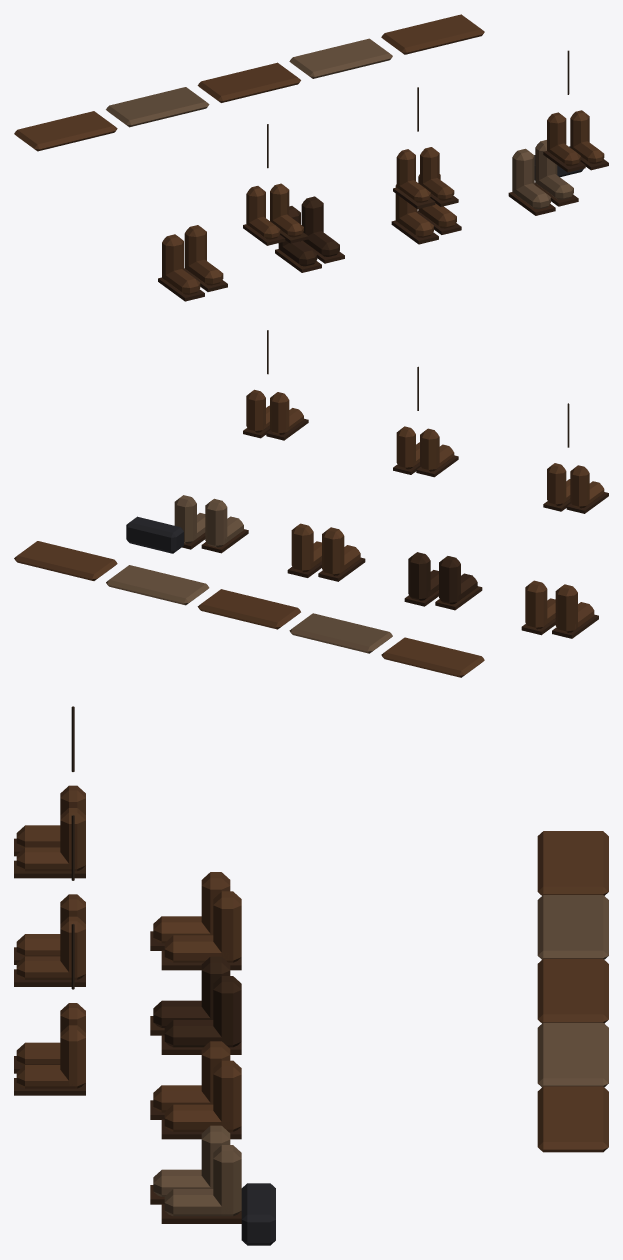
Rendered from goods_cobbler.glb.
3 renders of one model, top to bottom at view 1: azimuth 30°, elevation 25°; view 2: azimuth 150°, elevation 25°; view 3: azimuth 270°, elevation 25°, orthographic. The views are drawn at different scales.
Visible parts, largest first — view 1: goods_cobbler; view 2: goods_cobbler; view 3: goods_cobbler.
Part boxes in pixels (x1,y1,x2,y2): goods_cobbler: [14, 14, 608, 301]; goods_cobbler: [14, 330, 608, 677]; goods_cobbler: [14, 706, 608, 1245].
Size of the model in its own units: 2.7 by 1.05 by 2.08.
